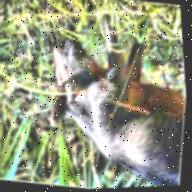boar: (16, 8, 192, 191)
